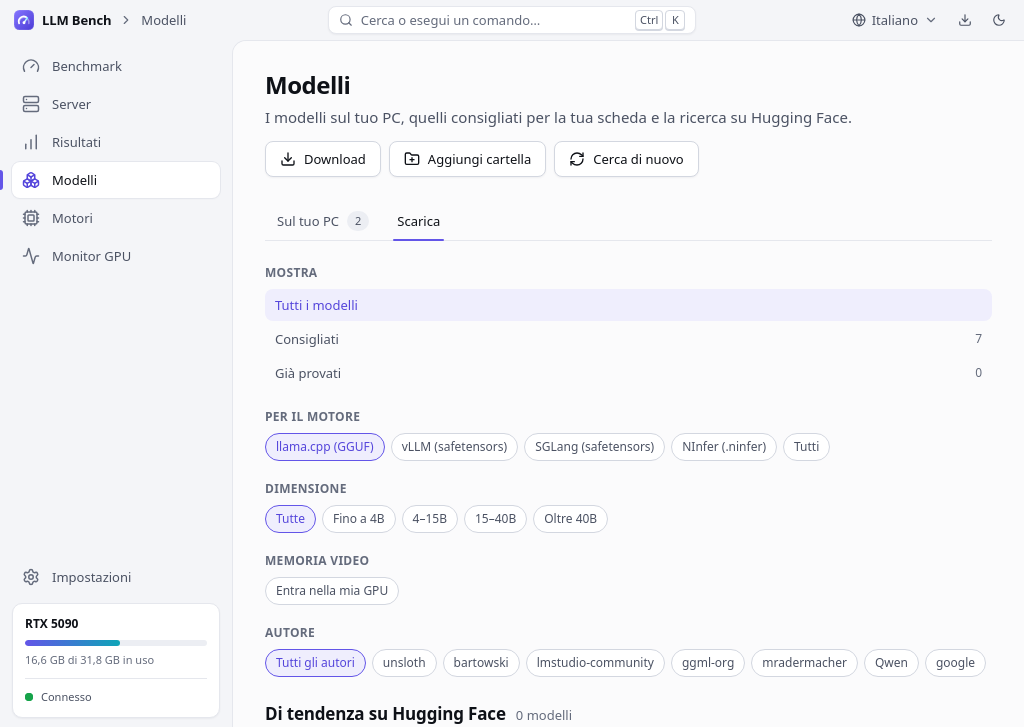
Test: models: download › catalog: nothing tried yet, no results without filters, VRAM held by other programs explained
Click the radio button labelled "Già provati 0" at (308, 373), box x1=265 y1=357 x2=992 y2=389
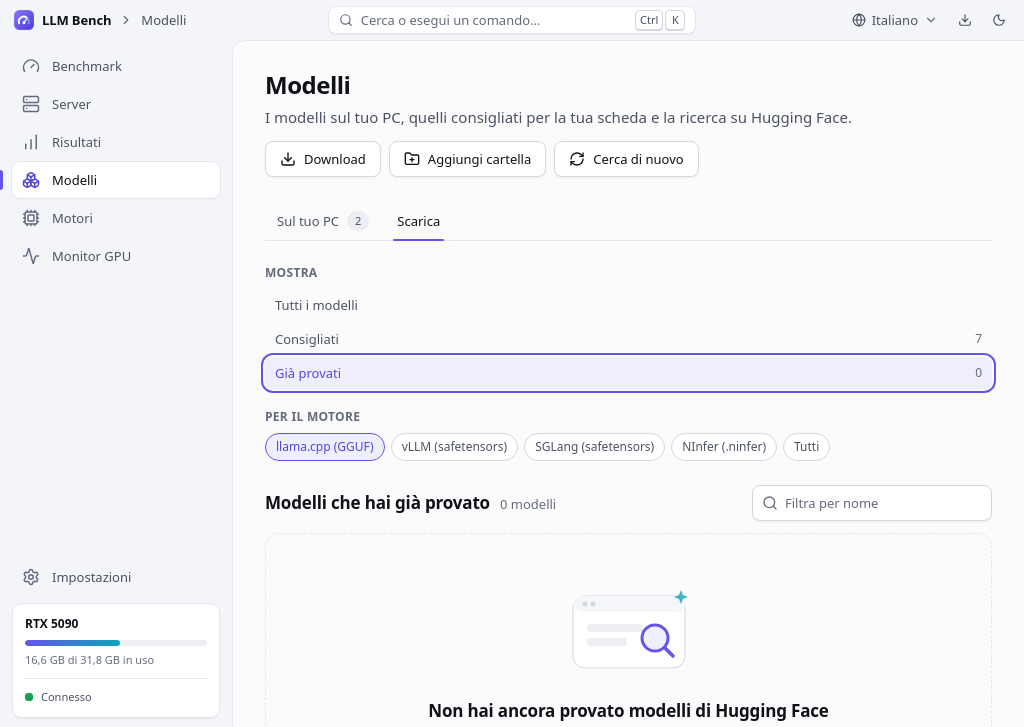
Expected: the text "0 modelli" is shown, x1=500 y1=494 x2=556 y2=514
Expected: the heading "Non hai ancora provato modelli di Hugging Face" is shown, x1=428 y1=698 x2=829 y2=724
